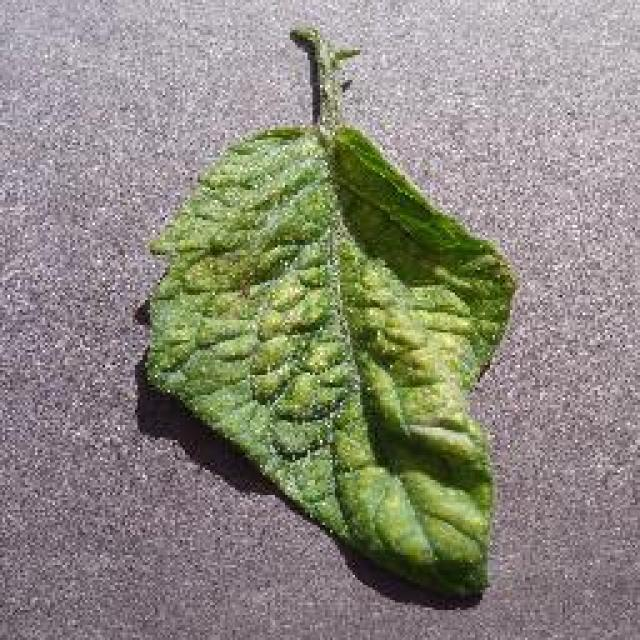Tomato___Spider_mites Two-spotted_spider_mite: (145, 28, 512, 595)
